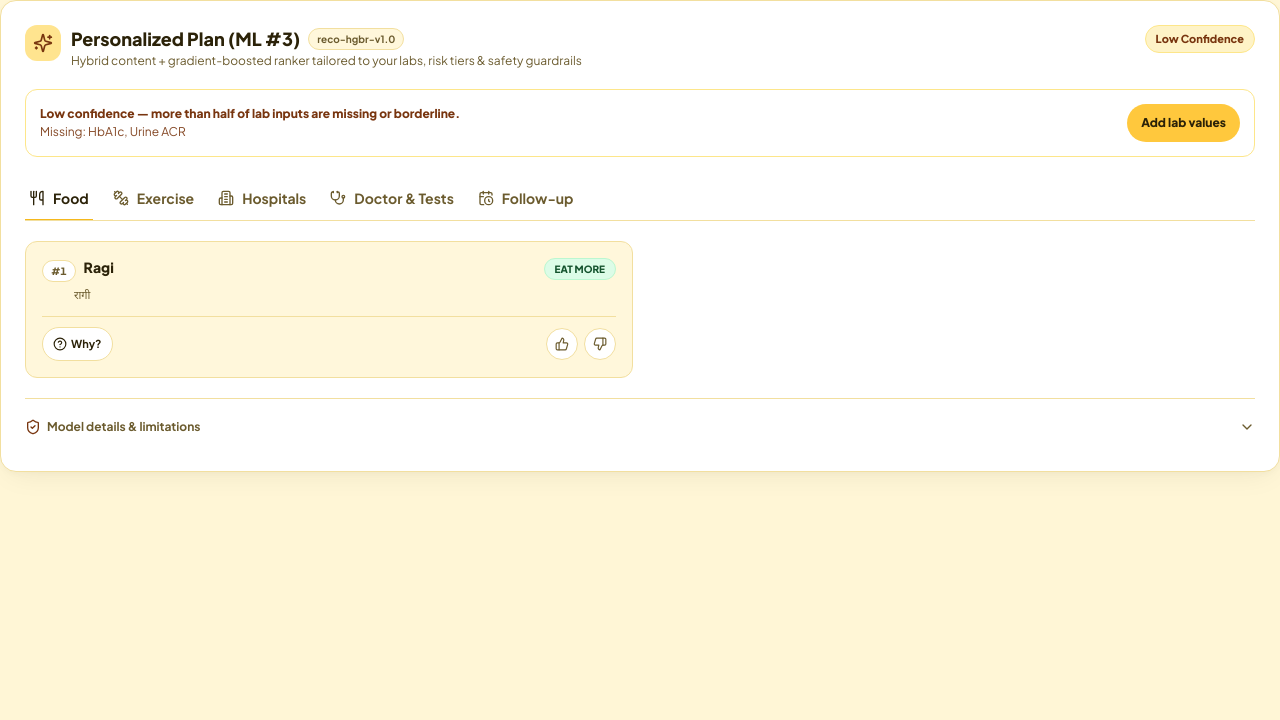
HealthBuddy Frontend Tests › renders PersonalizedPlanCard states: loading, error, emergency, low-confidence, tabs, and Why popover
The image size is (1280, 720).
Earlier steps of the test are not shown.
Later steps or results of the test are not shown.
Expected: the heading "Ragi" is shown, [84,258,114,277]
Click the button "Why?": point(77, 344) [42,327,112,361]
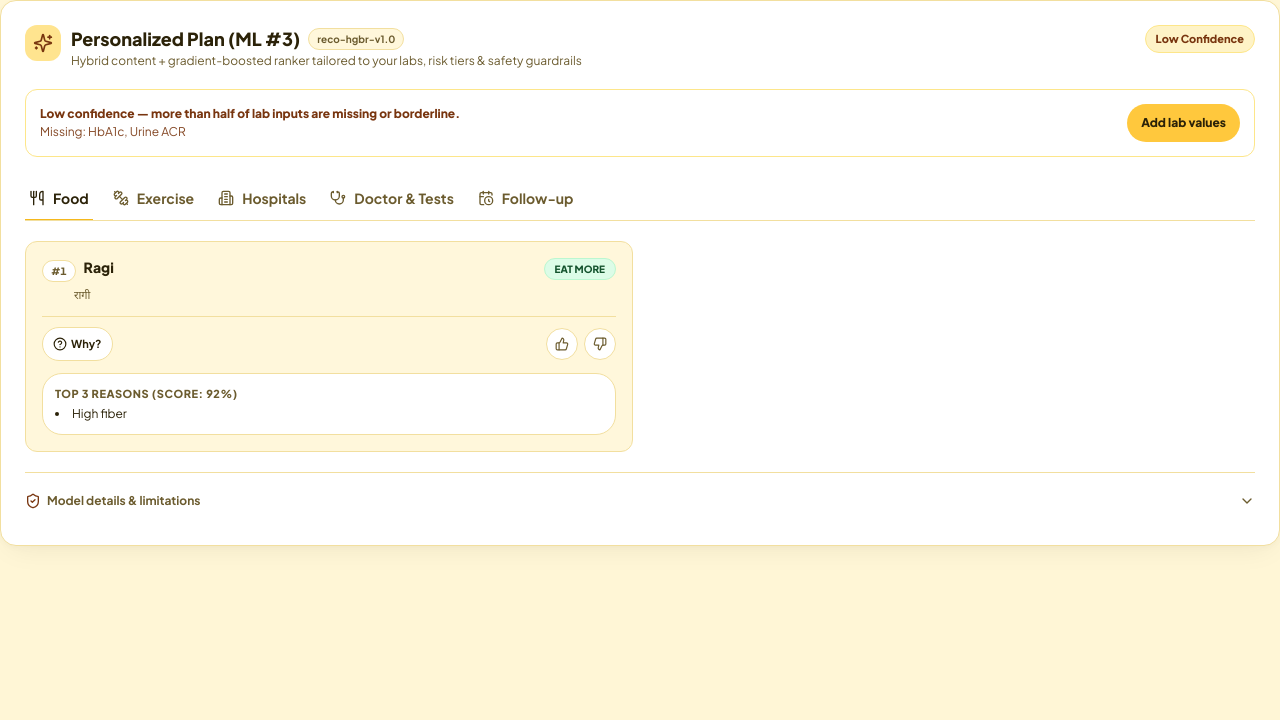
Now the list item "High fiber" is shown, box [72,406,127,421]
Click the tab "Exercise": point(153, 199) [109,177,198,221]
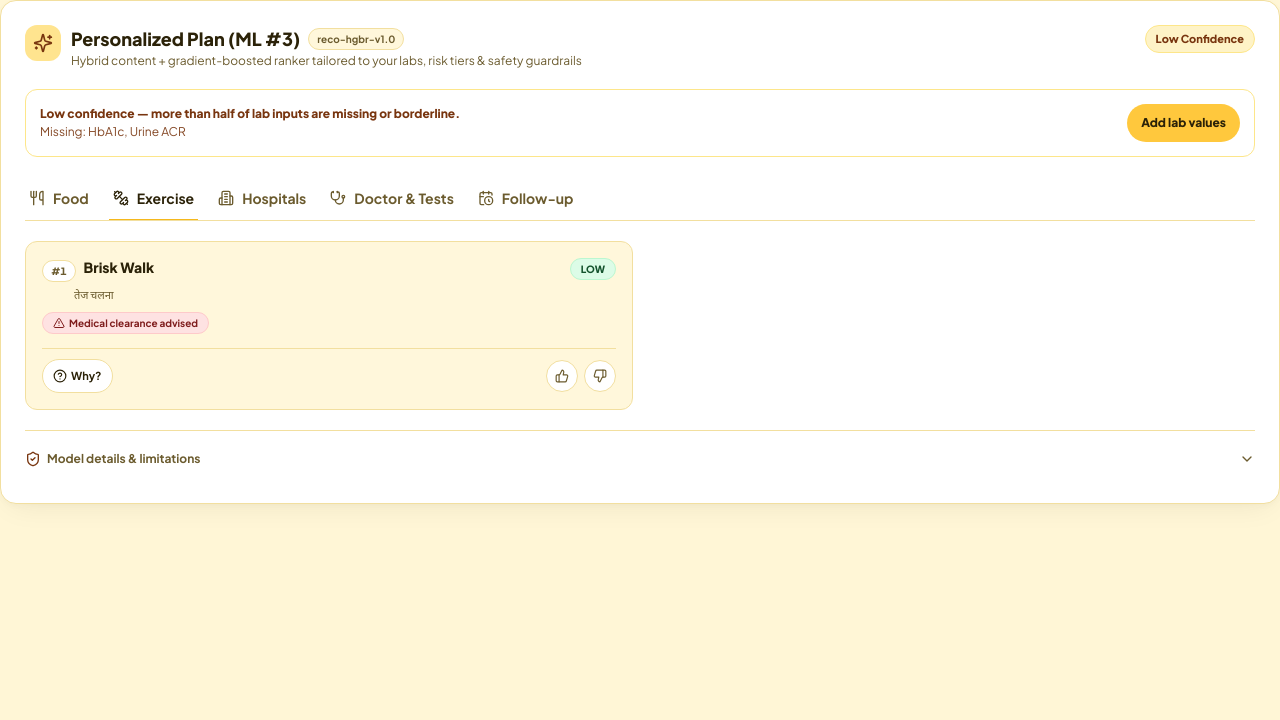
Now the heading "Brisk Walk" is shown, box [84,258,154,277]
Now the text "Medical clearance advised" is shown, box [69,315,198,331]
